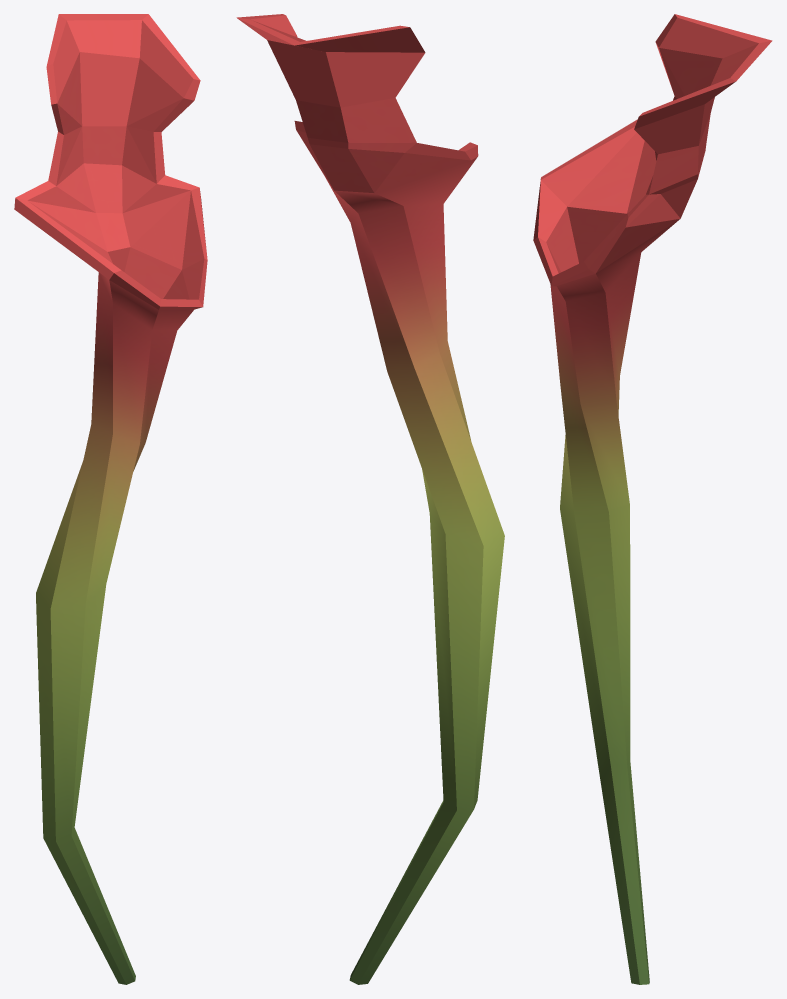
File: plantJungle6.fbx
The picture shows the model from 3 angles, left to right: view 1: azimuth 30°, elevation 25°; view 2: azimuth 150°, elevation 25°; view 3: azimuth 270°, elevation 25°; orthographic projection. The views are drawn at different scales.
Visible parts, largest first — view 1: plantJungle6; view 2: plantJungle6; view 3: plantJungle6.
Part boxes in pixels (x1,y1,x2,y2): plantJungle6: [14, 14, 207, 984]; plantJungle6: [236, 14, 504, 984]; plantJungle6: [533, 14, 772, 984].
Size of the model in its own units: 302 by 1467 by 338.
